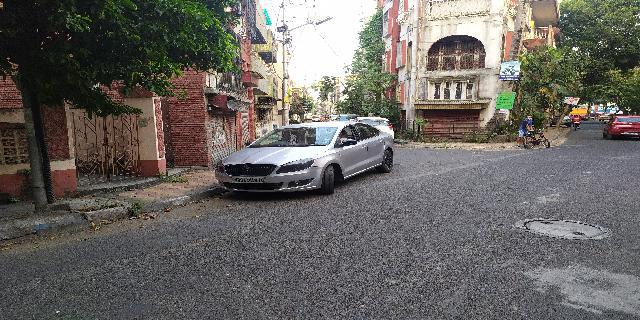Car: (212, 118, 397, 201), (601, 109, 640, 142)
